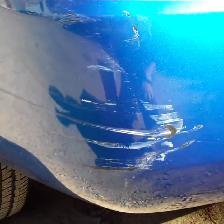bumper_scratch: (32, 51, 224, 199)
